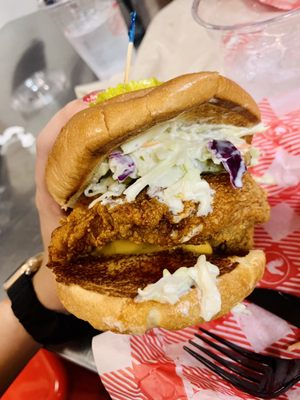soup: (27, 62, 281, 336)
